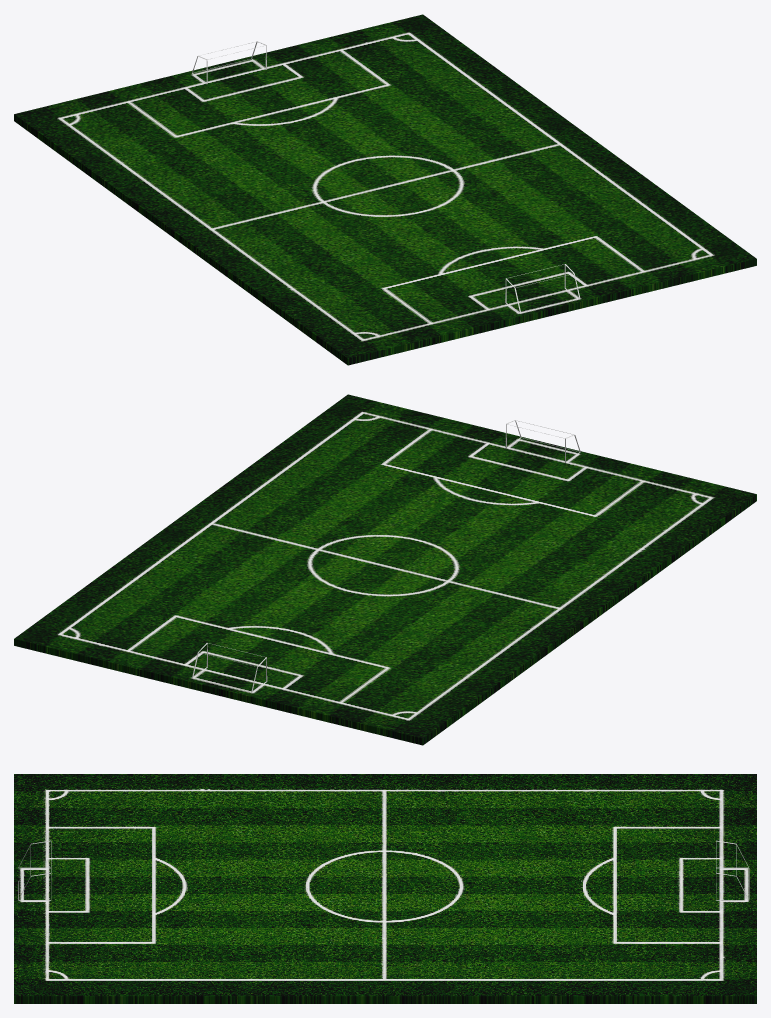
File: Football.glb
The picture shows the model from 3 angles, top to bottom: view 1: azimuth 30°, elevation 25°; view 2: azimuth 150°, elevation 25°; view 3: azimuth 270°, elevation 25°; orthographic projection. The views are drawn at different scales.
Parts seen in each view (by area): view 1: Plane; view 2: Plane; view 3: Plane.
Part boxes in pixels (x1,y1,x2,y2): Plane: (14,14,756,365); Plane: (14,394,756,745); Plane: (14,774,756,1003).
Size of the model in its own units: 51.97 by 3.92 by 73.5.
Materials: 1 (1 with a texture image).
